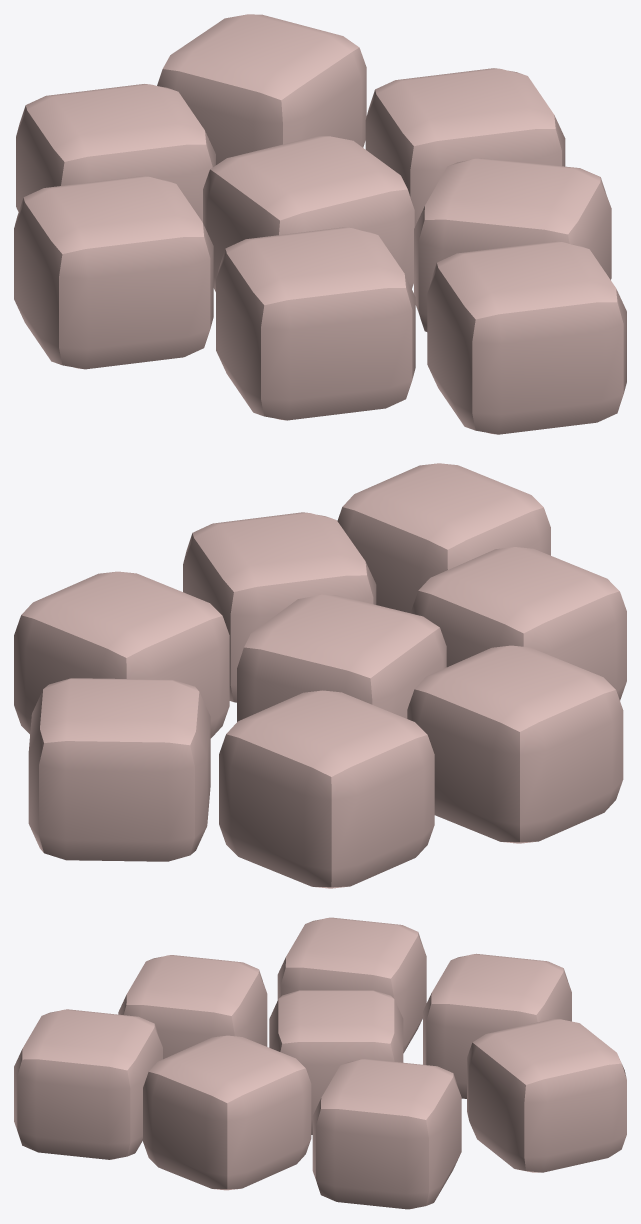
File: SM_DrumstickCube3.fbx
The picture shows the model from 3 angles, top to bottom: view 1: azimuth 30°, elevation 25°; view 2: azimuth 150°, elevation 25°; view 3: azimuth 270°, elevation 25°; orthographic projection. The views are drawn at different scales.
Visible parts, largest first — view 1: pCube4, pCube5, pCube7, pCube9, pCube1, pCube8, pCube6, pCube3; view 2: pCube8, pCube7, pCube9, pCube6, pCube4, pCube5, pCube1, pCube3; view 3: pCube3, pCube9, pCube6, pCube5, pCube8, pCube4, pCube7, pCube1.
Part boxes in pixels (x1,y1,x2,y2): pCube4: [216, 227, 415, 420]; pCube5: [427, 241, 626, 434]; pCube7: [14, 176, 213, 369]; pCube9: [157, 14, 366, 164]; pCube1: [203, 136, 414, 291]; pCube8: [16, 84, 215, 222]; pCube6: [365, 68, 565, 226]; pCube3: [414, 158, 611, 331]; pCube8: [219, 690, 434, 888]; pCube7: [407, 645, 623, 843]; pCube9: [28, 678, 210, 861]; pCube6: [14, 571, 229, 738]; pCube4: [411, 547, 626, 700]; pCube5: [337, 463, 550, 613]; pCube1: [237, 594, 446, 721]; pCube3: [183, 512, 376, 702]; pCube3: [143, 1035, 311, 1190]; pCube9: [467, 1019, 626, 1172]; pCube6: [312, 1059, 461, 1209]; pCube5: [14, 1009, 162, 1159]; pCube8: [423, 953, 571, 1098]; pCube4: [118, 955, 267, 1059]; pCube7: [277, 917, 426, 1053]; pCube1: [269, 990, 403, 1134].
Bounding box in the file's own units: 56.79 × 14.02 × 71.38.
